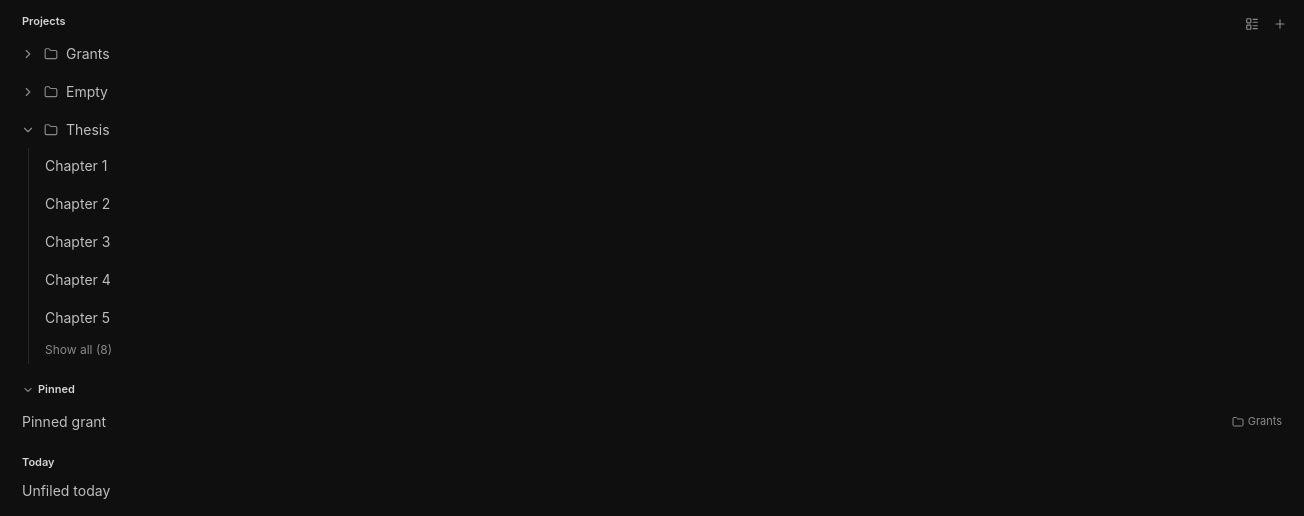
sidebar projects › tolerates stale and malformed stored ids, dropping them on the next save
Step 1. Click the button named "Conversations in Empty" → (28, 92), box [16,80,40,104]
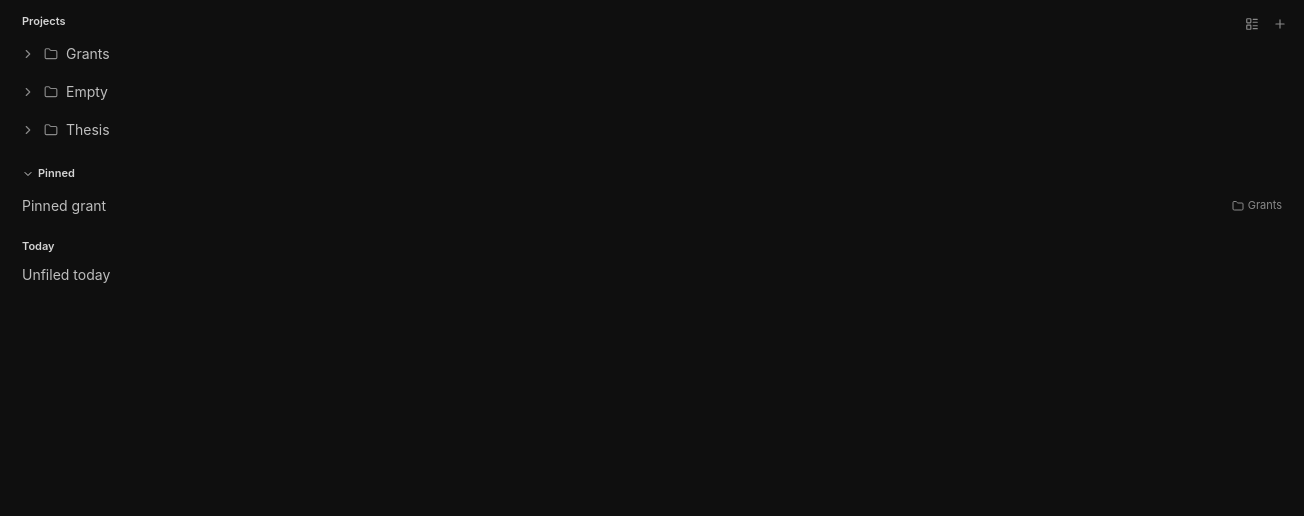
Now the button named "Conversations in Thesis" is collapsed, box [16,118,40,142]
